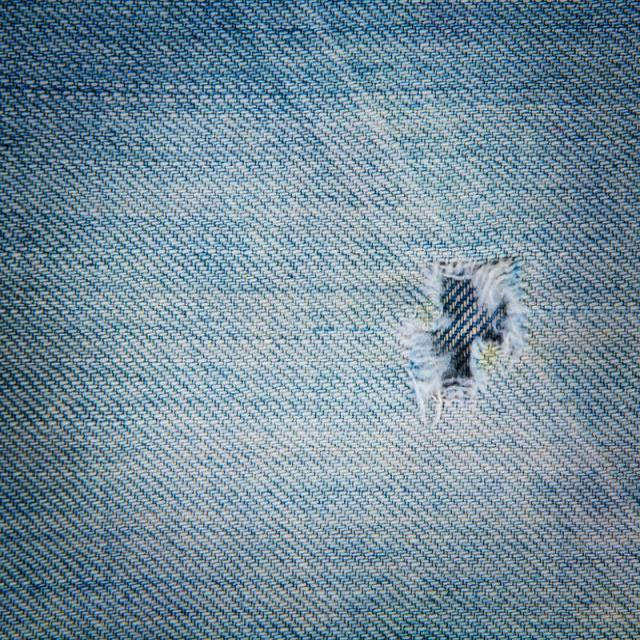Hole: (400, 258, 528, 421)
